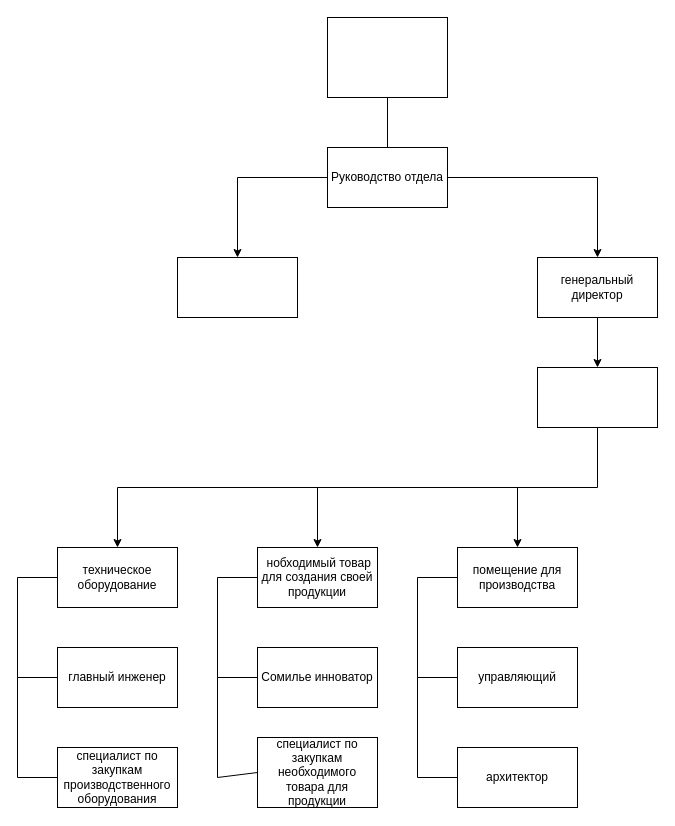
This 675x826 diagram has some shape labels left out. Each missing label, with the box of its shape:
Заместители генерального директора: (536, 366, 658, 428)
отдел по управлению производством алкогольной продукции: (326, 16, 448, 98)
Совет директоров: (176, 256, 298, 318)
